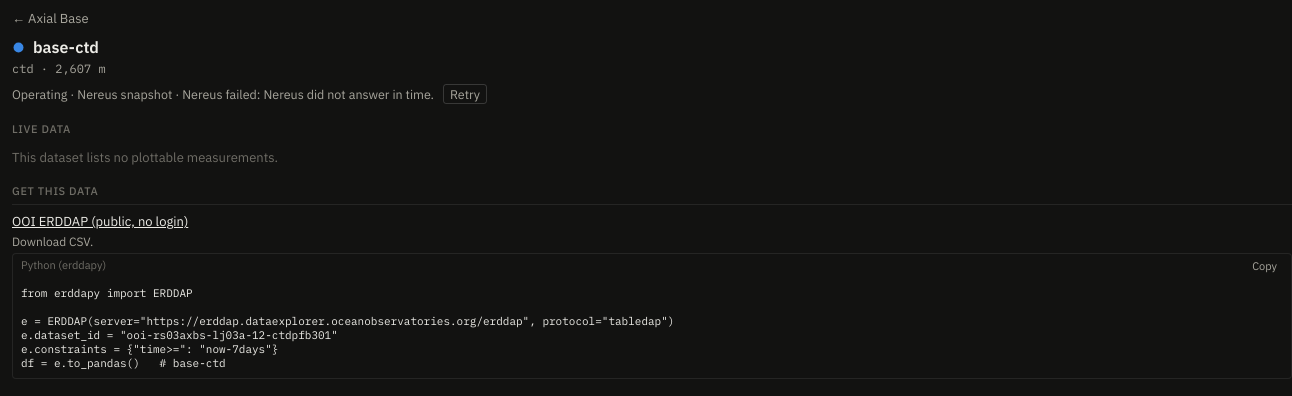
Test case: SensorDetail › names the failed upstream source and retries
Expected: the text "Nereus failed: Nereus did not answer in time." is shown, [12,84,487,104]
Click the button "Retry" at point(465, 94), box [443,84,487,104]
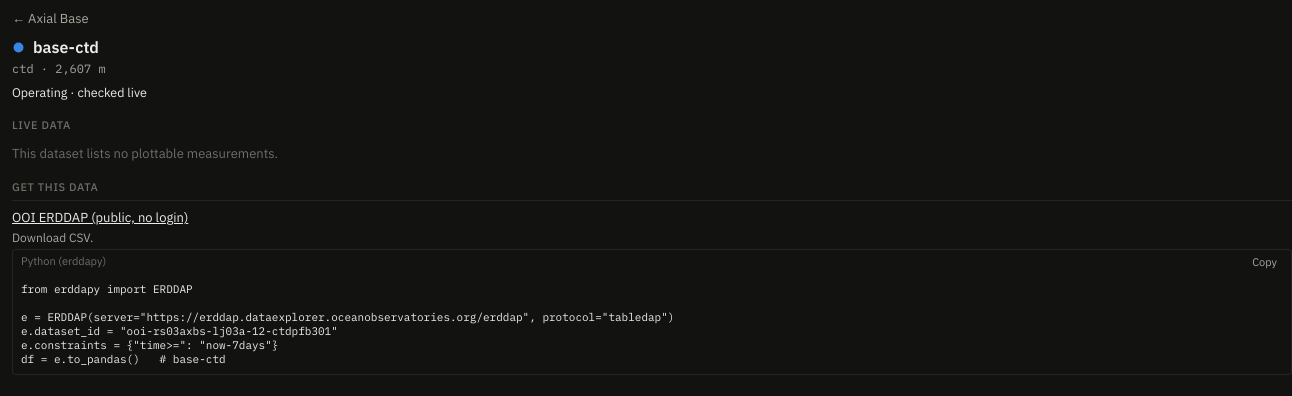
Expected: the text "Operating · checked live" is shown, [12,84,147,100]
